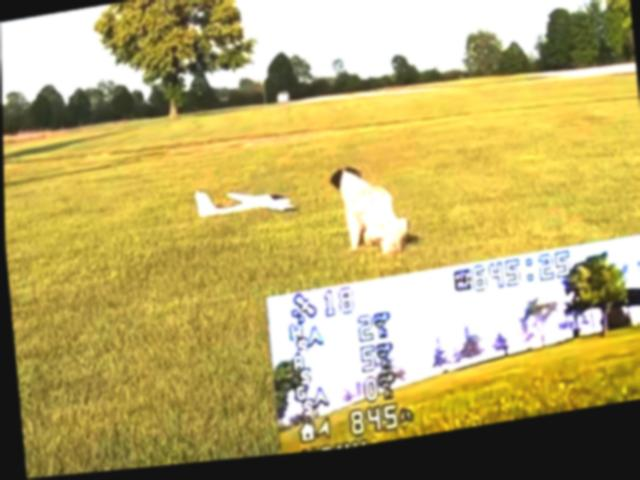iha: (194, 180, 292, 230)
